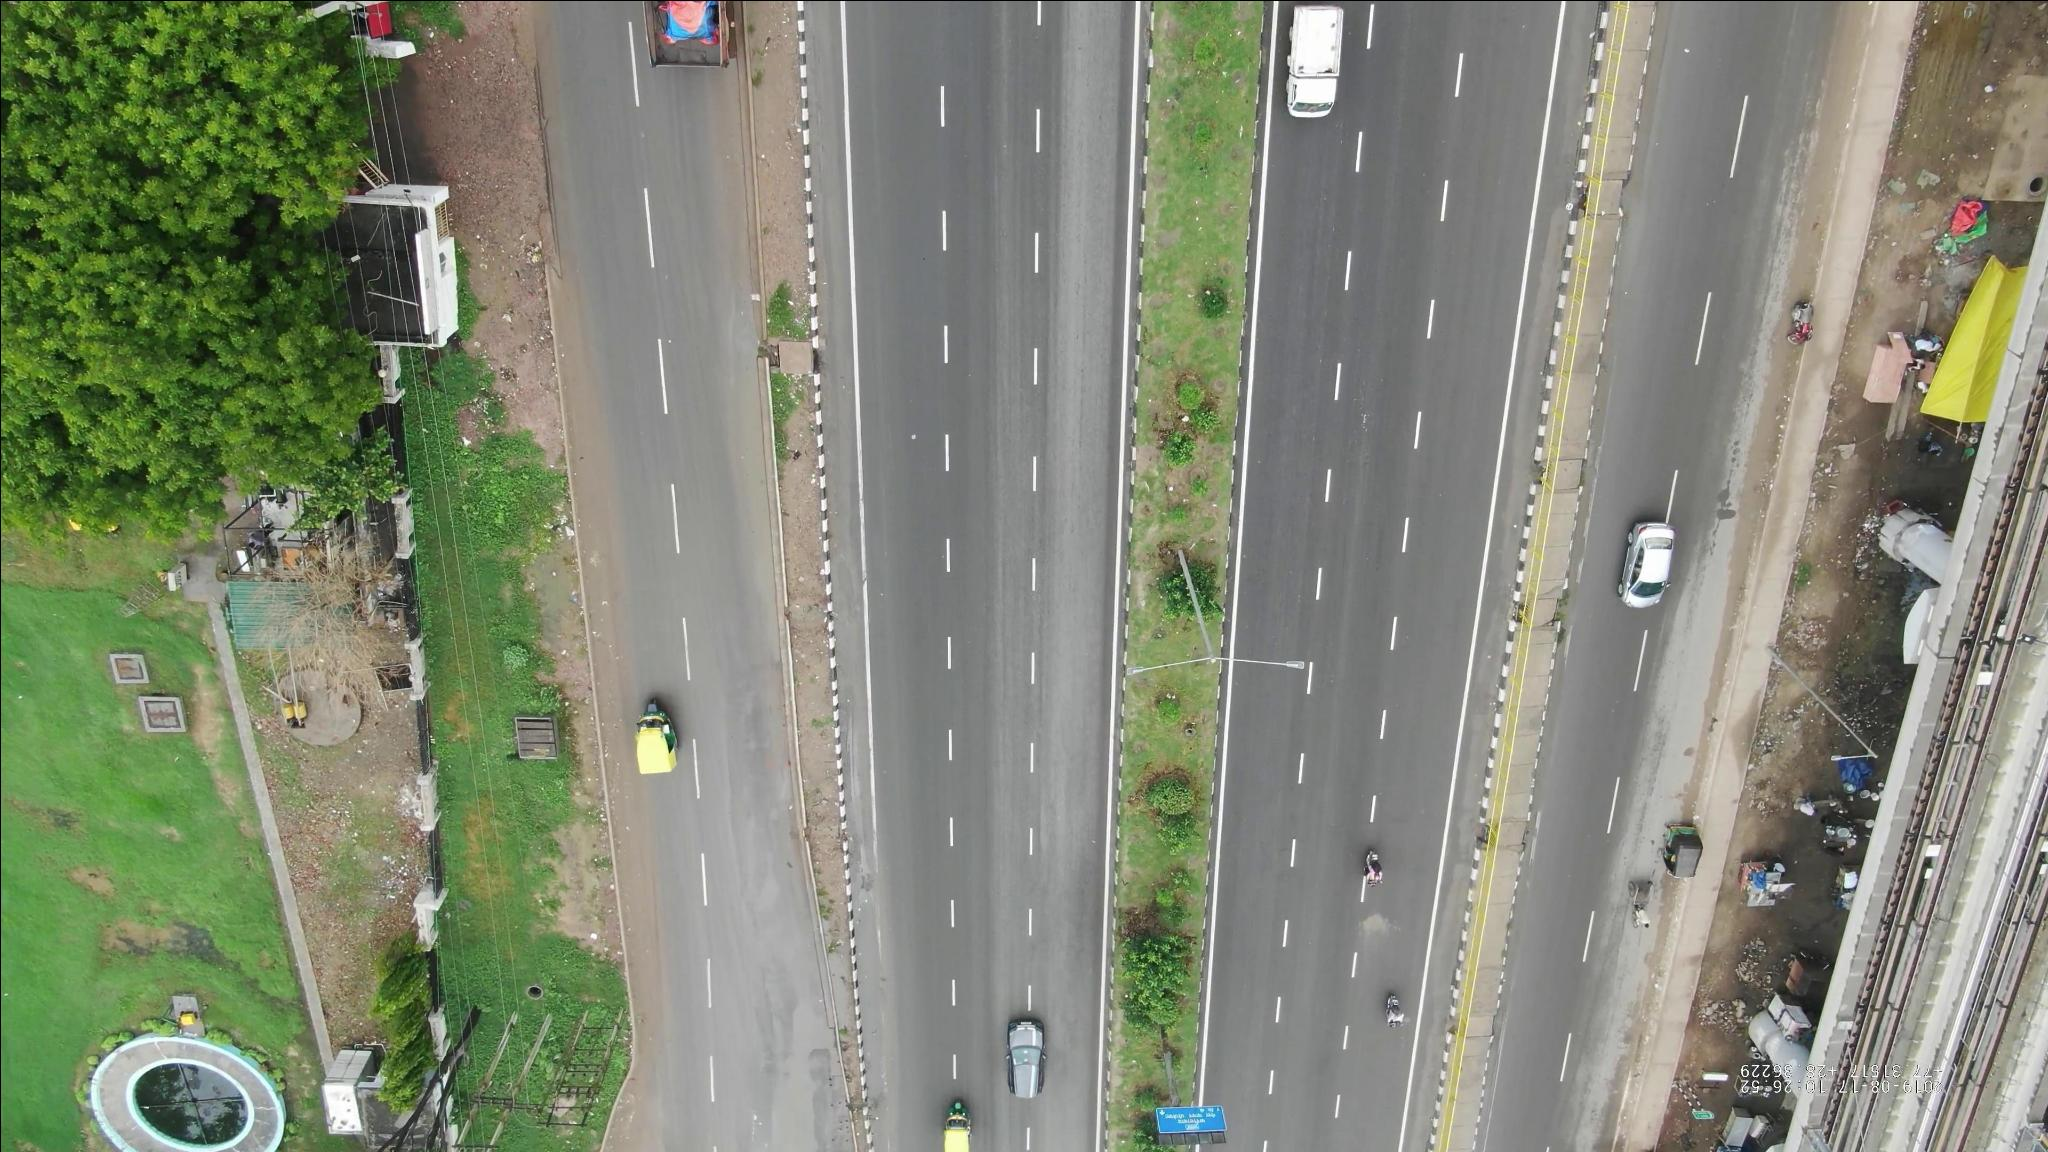Muddy_road: (622, 805, 675, 1014)
Waterlogging: (754, 949, 850, 1152)
